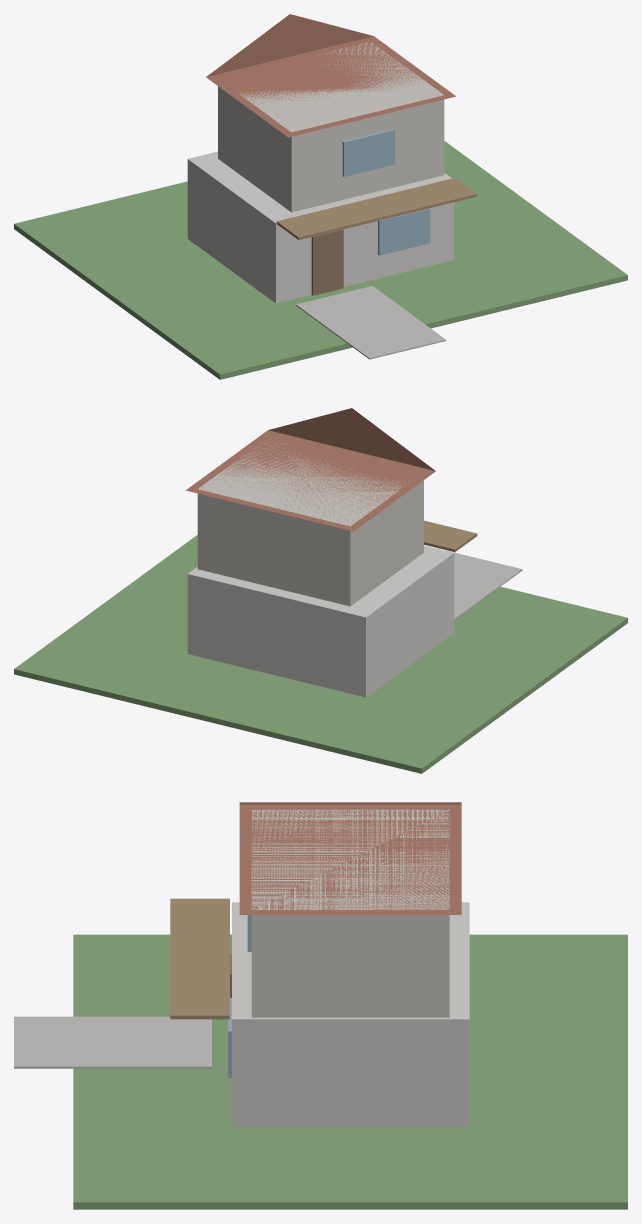
Rendered from sobrado.glb.
3 views of the same model, one above another, from view 1: azimuth 30°, elevation 25°; view 2: azimuth 150°, elevation 25°; view 3: azimuth 270°, elevation 25° (orthographic). The views are drawn at different scales.
Visible parts, largest first — view 1: geometry_0; view 2: geometry_0; view 3: geometry_0.
Boxes of the visible parts, left/top/right/bottom form: geometry_0: left=14, top=14, right=627, bottom=379; geometry_0: left=14, top=408, right=627, bottom=773; geometry_0: left=14, top=802, right=627, bottom=1209.
Size of the model in its own units: 16 by 7.8 by 15.5.
